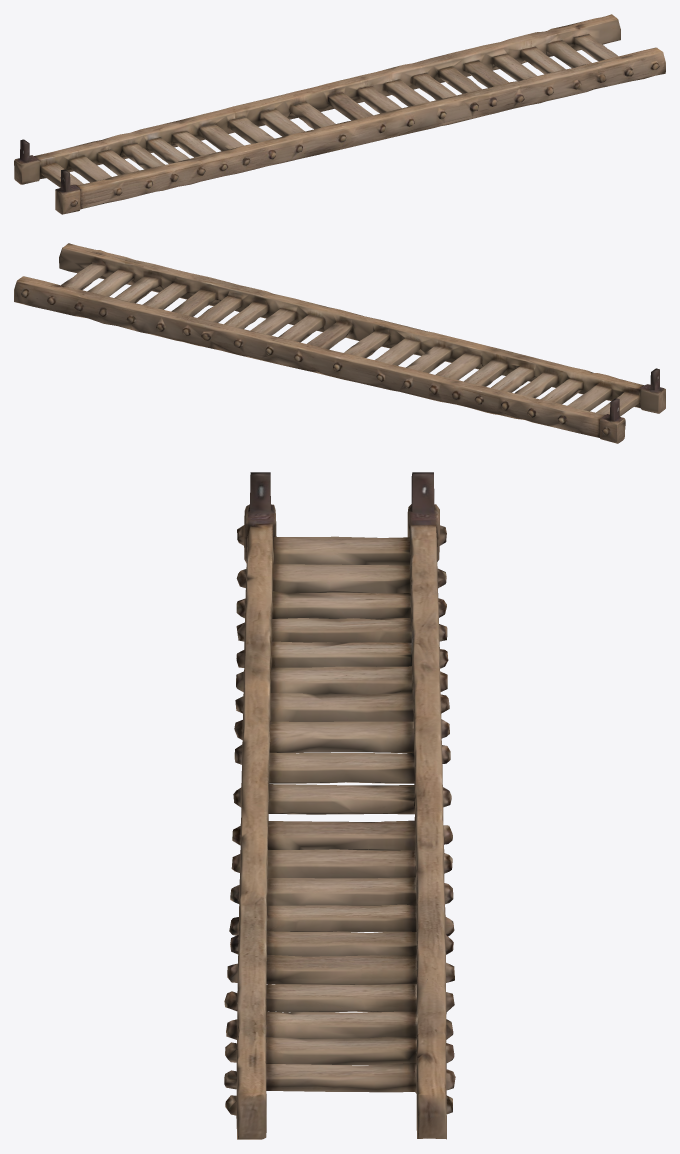
Rendered from ladder.glb.
3 views of the same model, one above another, from view 1: azimuth 30°, elevation 25°; view 2: azimuth 150°, elevation 25°; view 3: azimuth 270°, elevation 25° (orthographic). The views are drawn at different scales.
Visible parts, largest first — view 1: tripo_node_1be6166e-a370-4ec9-bcfa-2927d256ba89; view 2: tripo_node_1be6166e-a370-4ec9-bcfa-2927d256ba89; view 3: tripo_node_1be6166e-a370-4ec9-bcfa-2927d256ba89.
Part boxes in pixels (<box>): tripo_node_1be6166e-a370-4ec9-bcfa-2927d256ba89: <box>14,14,665,214</box>; tripo_node_1be6166e-a370-4ec9-bcfa-2927d256ba89: <box>14,243,665,443</box>; tripo_node_1be6166e-a370-4ec9-bcfa-2927d256ba89: <box>224,472,455,1139</box>.
Size of the model in its own units: 7.84 by 0.538 by 1.3.
1 material, 1 textured.
